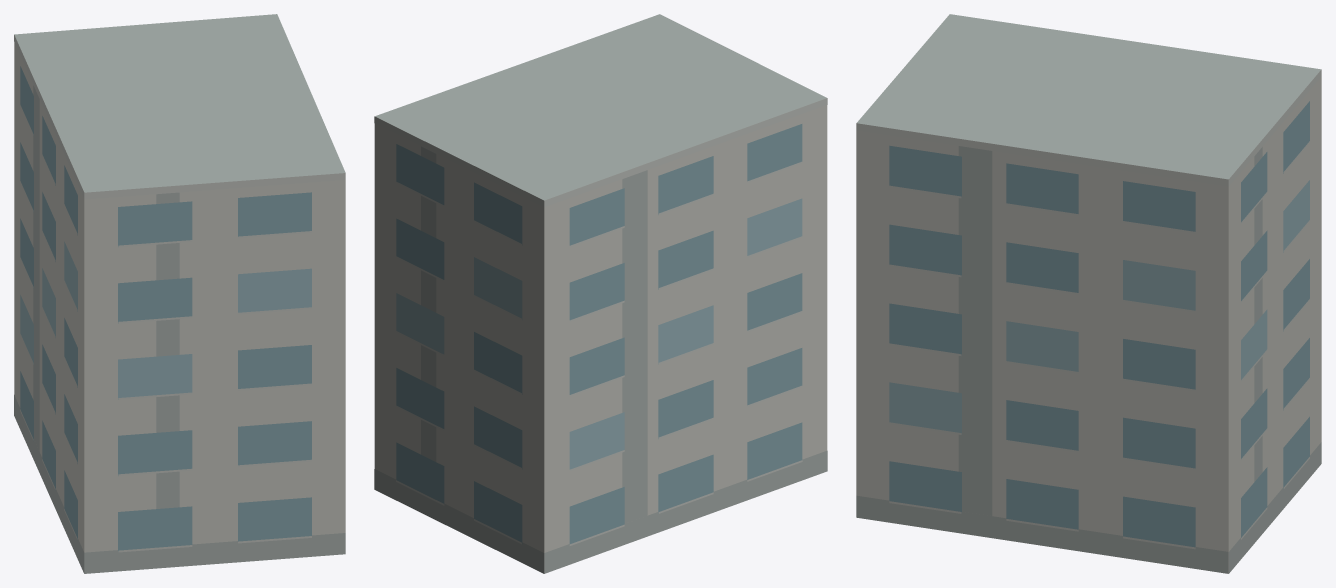
File: survey-upis-32946465.glb
3 views of the same model, side by side, from view 1: azimuth 30°, elevation 25°; view 2: azimuth 150°, elevation 25°; view 3: azimuth 270°, elevation 25° (orthographic). The views are drawn at different scales.
Visible parts, largest first — view 1: survey-upis-32946465.tmp; view 2: survey-upis-32946465.tmp; view 3: survey-upis-32946465.tmp.
Boxes of the visible parts, x1,y1,x2,y2 form: survey-upis-32946465.tmp: [14, 14, 345, 573]; survey-upis-32946465.tmp: [374, 14, 827, 573]; survey-upis-32946465.tmp: [856, 14, 1321, 573].
Bounding box in the file's own units: 11.93 × 13.25 × 14.17.
